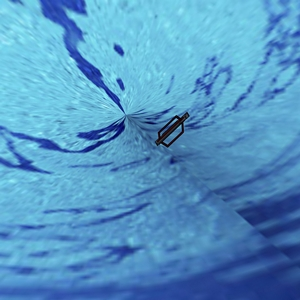submarine: (142, 95, 198, 159)
